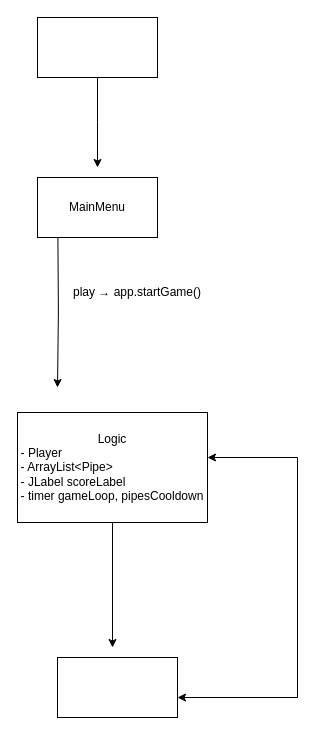
Image size: 323x735. Some labels were removed from this diagram. Here are the shapes that lost their labels. From the top down, the centre of each, then its label:
At pixel 97 47: "App".
At pixel 117 687: "View".
